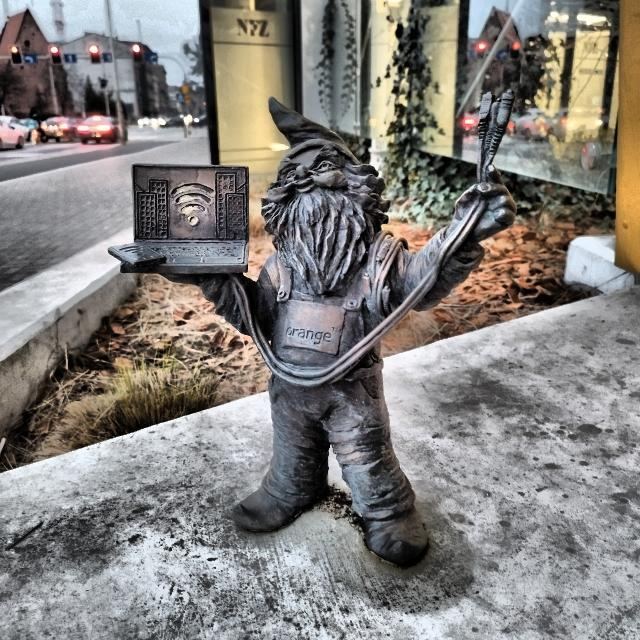Krasnal_Teleclaw: (109, 90, 517, 570)
